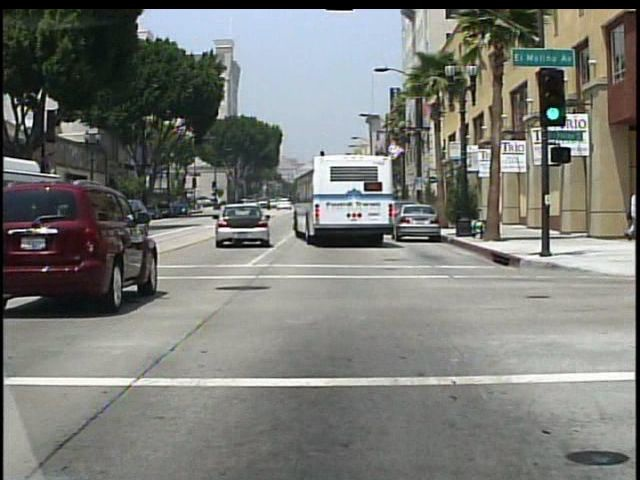person: (624, 188, 638, 243)
